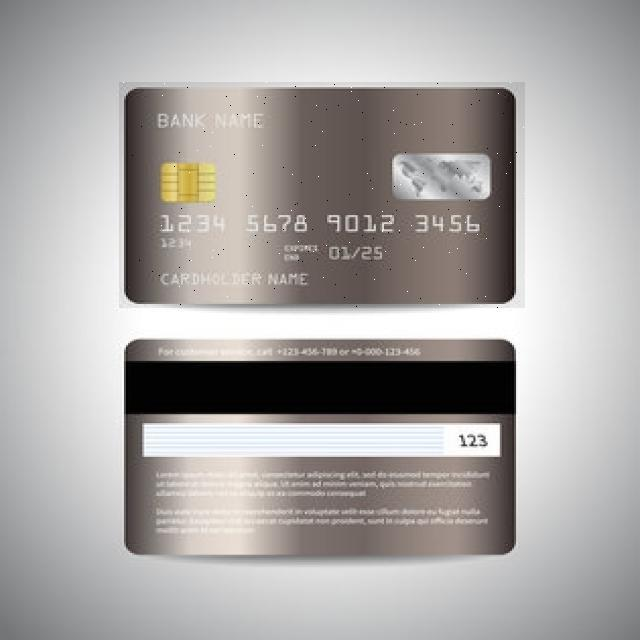payment_card: (121, 82, 519, 306), (123, 338, 516, 558)
